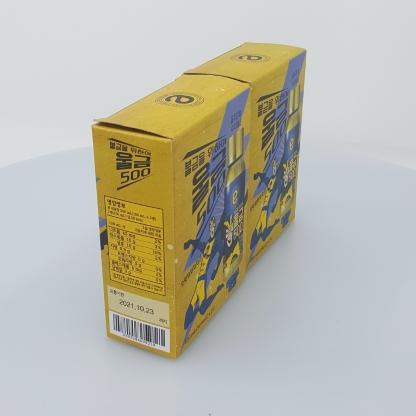----500100ML_2-200ML: (91, 74, 252, 359), (183, 42, 307, 272)
